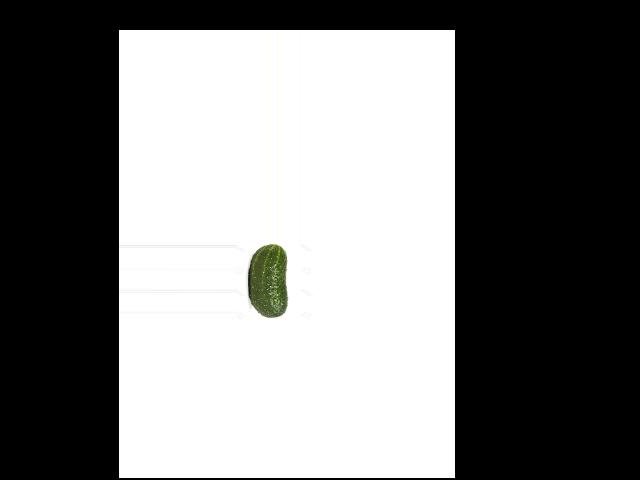cucumber: (248, 244, 286, 318)
